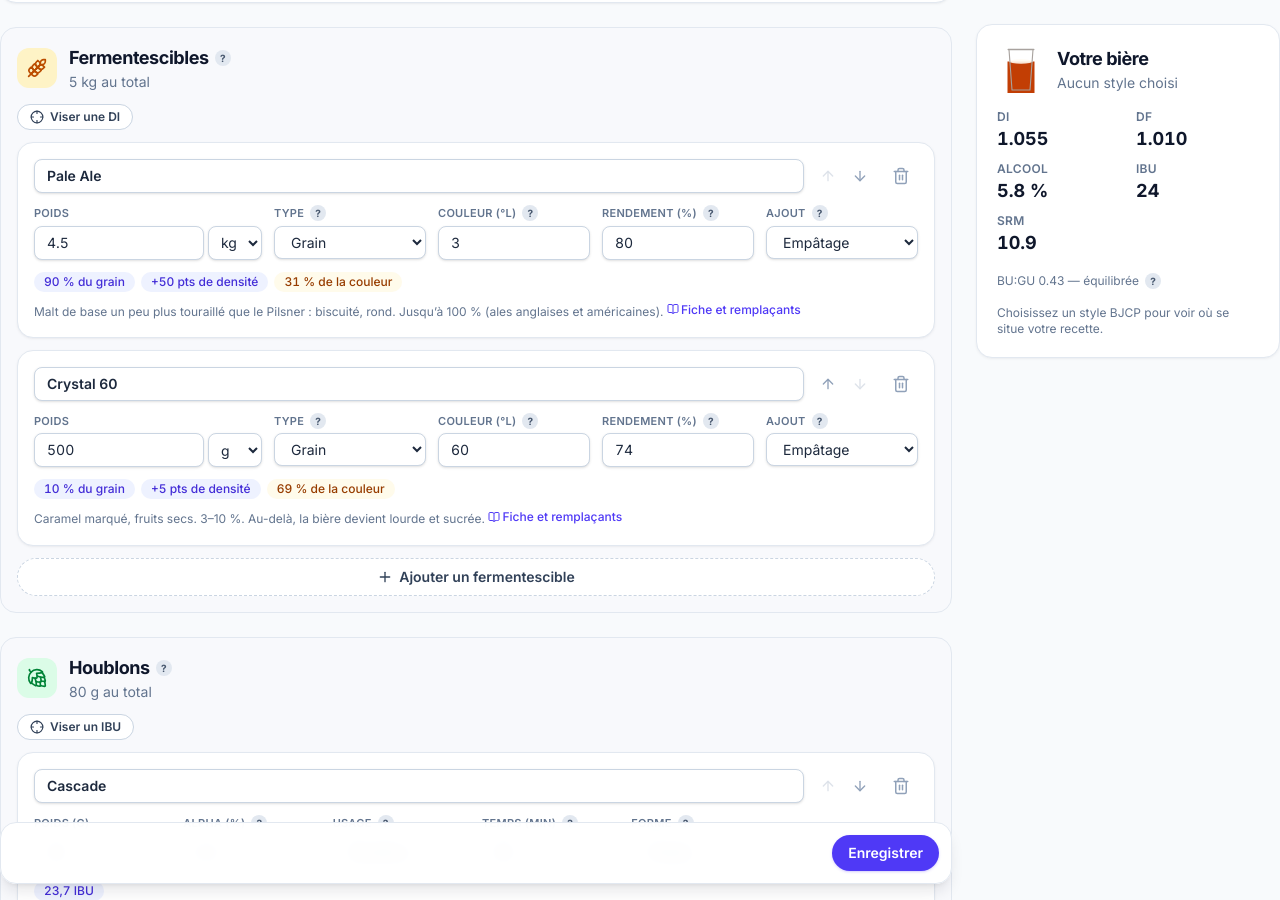
it: RecipeForm › poids des fermentescibles en kg ou en g : grammes d’office sous 1 kg, enregistré en kg
The width and height of the screenshot is (1280, 900).
(page scrolled)
Expected: the text "5 kg au total" is shown, top-left (69, 73), bottom-right (150, 90)
Expected: the 2nd dropdown named "Unité de poids" shows "g", top-left (208, 433), bottom-right (262, 467)
Replace the text in the 2nd number field showing "500" with "250": (119, 450) top-left (34, 433), bottom-right (204, 467)
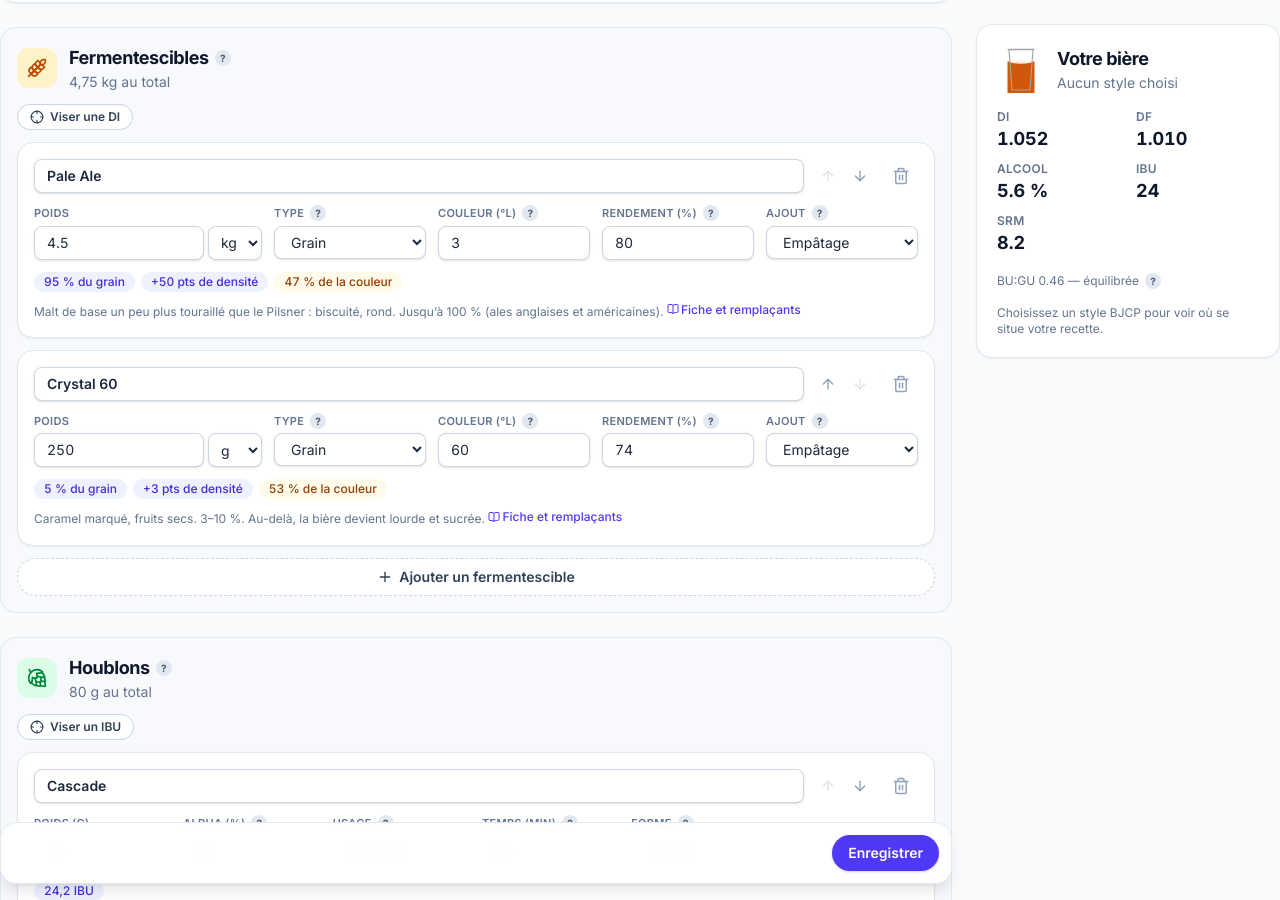
Now the text "4,75 kg au total" is shown, box top-left (69, 73), bottom-right (170, 90)
Select "g" in the 1st dropdown named "Unité de poids": (235, 242) top-left (208, 226), bottom-right (262, 260)
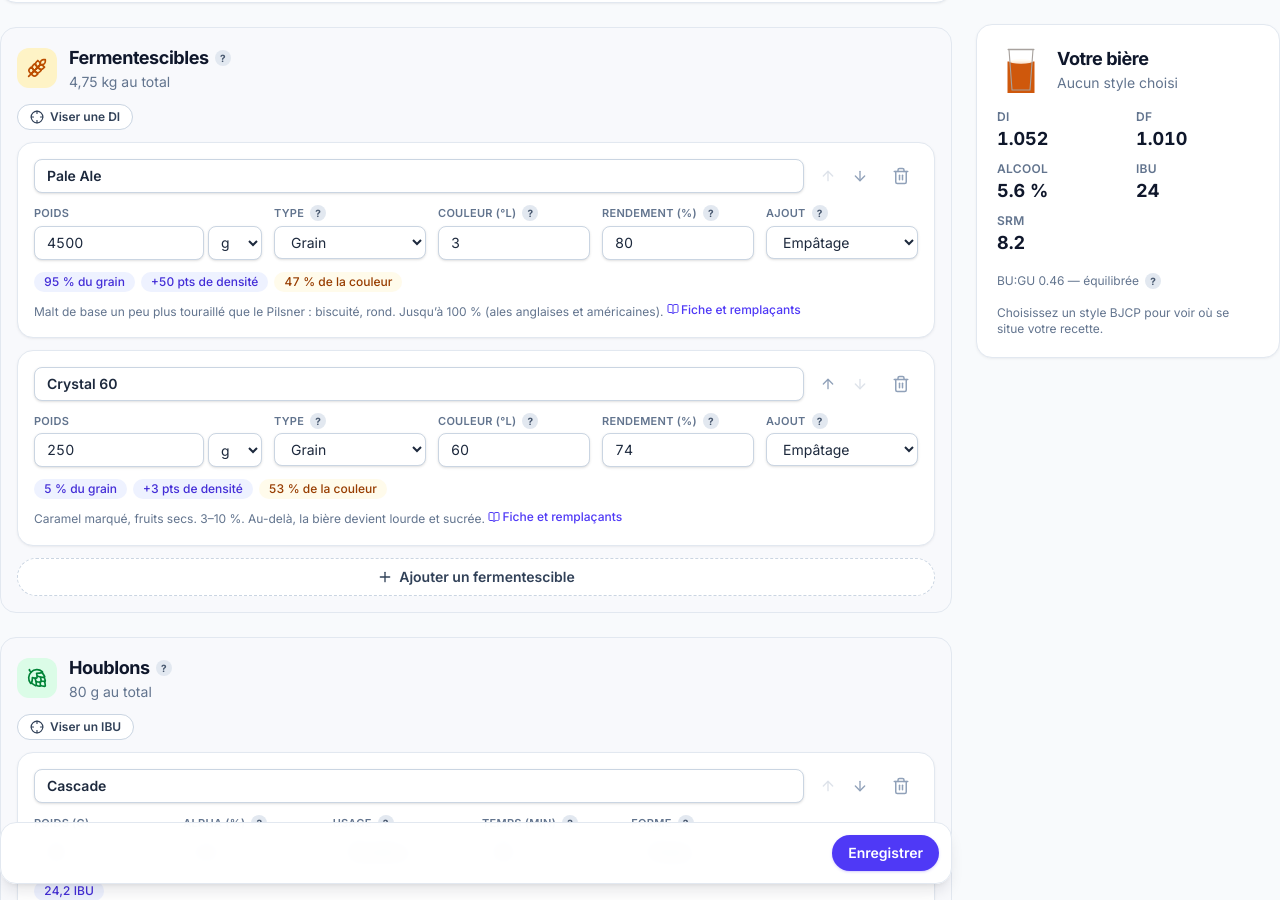
Now the 1st number field showing "4500" is shown, box top-left (34, 226), bottom-right (204, 260)
